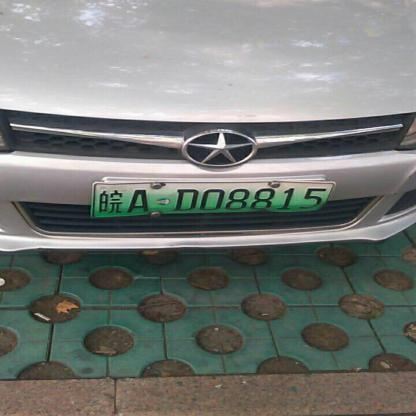lp: (94, 182, 332, 216)
